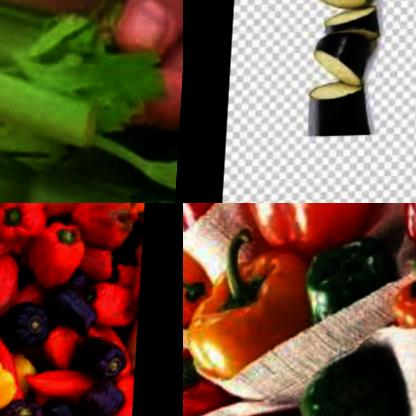bell pepper: (0, 203, 148, 416), (186, 247, 318, 397), (296, 240, 392, 339), (235, 203, 392, 263), (290, 355, 410, 416), (183, 203, 220, 345), (183, 347, 238, 416), (391, 250, 416, 344)
celery: (0, 0, 183, 203)
eggplant: (300, 82, 379, 143), (312, 33, 375, 90), (323, 8, 387, 46), (312, 0, 394, 14)
